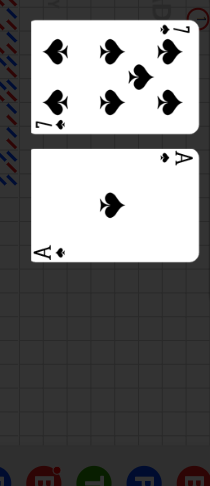AS: (33, 242, 69, 260), (158, 150, 195, 166)
